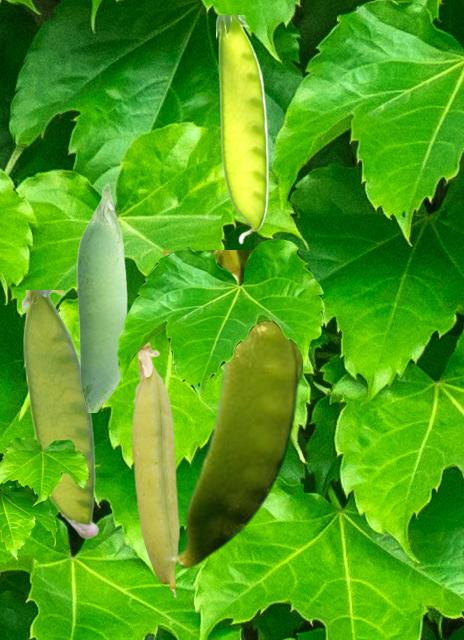pea: (163, 250, 301, 568), (22, 290, 98, 537), (131, 342, 179, 597), (216, 15, 267, 243), (76, 183, 126, 411)
